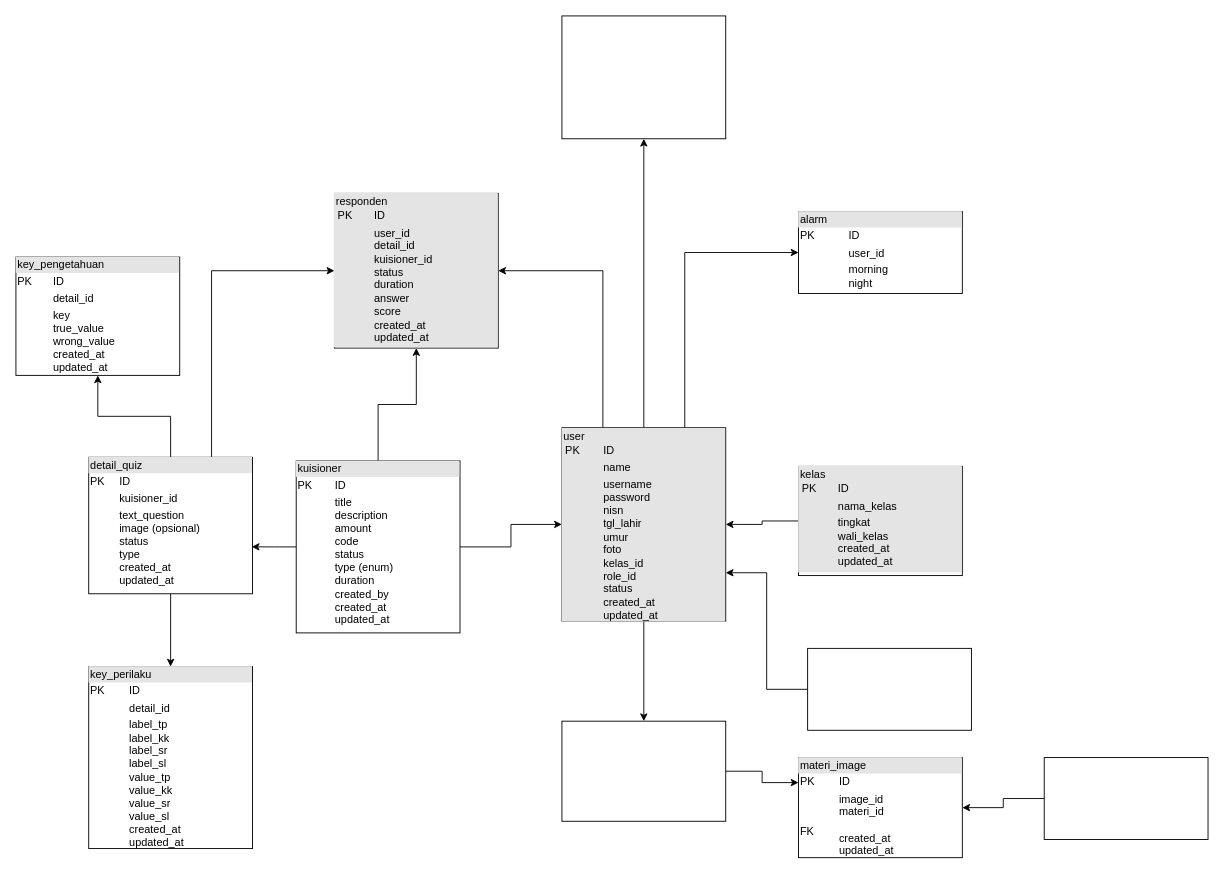
The diagram is 1224 pixels wide and 874 high, and some of its shapes have lost their labels. Here are the shapes that lost their labels. From the top down, the box of each, then its label:
(561, 15, 726, 139): video PK ID video_path title description created_by created_at updated_at
(807, 647, 971, 730): role PK ID name created_at updated_at
(561, 720, 726, 821): materi PK ID title description created_by created_at updated_at
(1043, 757, 1208, 839): image PK ID image_path created_at updated_at
